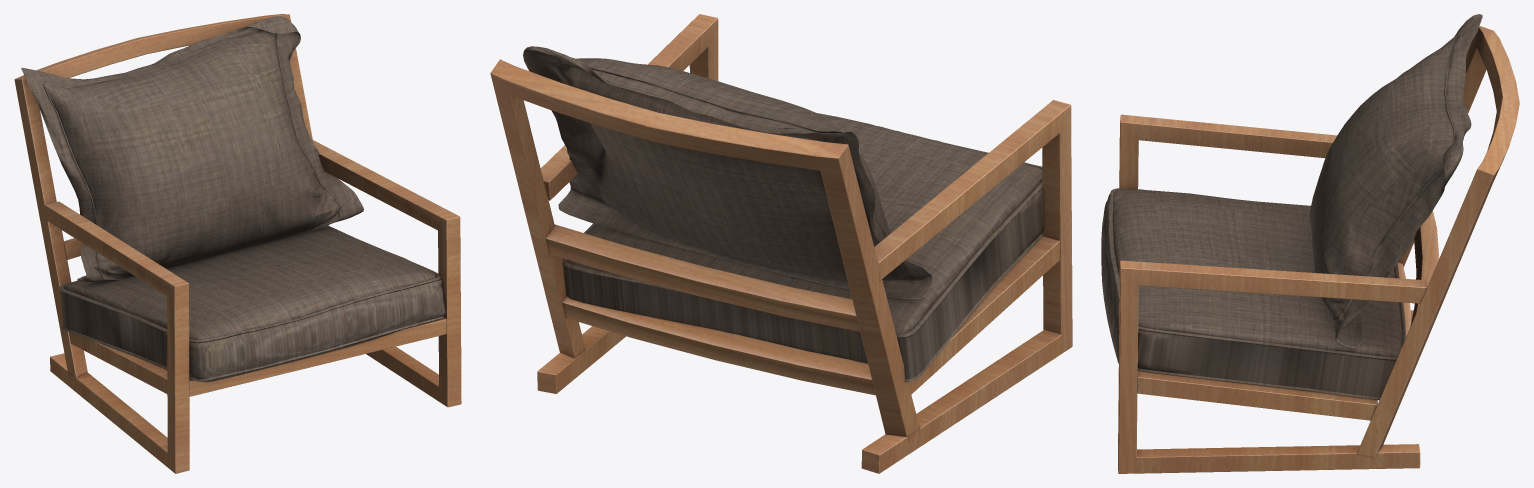
The model's file is armchair_4a23f932-1aa6-5fbf-a426-be0a14037faf.glb.
3 views of the same model, side by side, from view 1: azimuth 30°, elevation 25°; view 2: azimuth 150°, elevation 25°; view 3: azimuth 270°, elevation 25° (orthographic). The views are drawn at different scales.
Visible parts, largest first — view 1: raw_model.obj; view 2: raw_model.obj; view 3: raw_model.obj.
Boxes of the visible parts, x1,y1,x2,y2 form: raw_model.obj: (14,14,461,473); raw_model.obj: (490,14,1072,473); raw_model.obj: (1101,14,1519,473).
Size of the model in its own units: 0.8078 by 0.7551 by 0.9182.
1 material, 1 textured.
